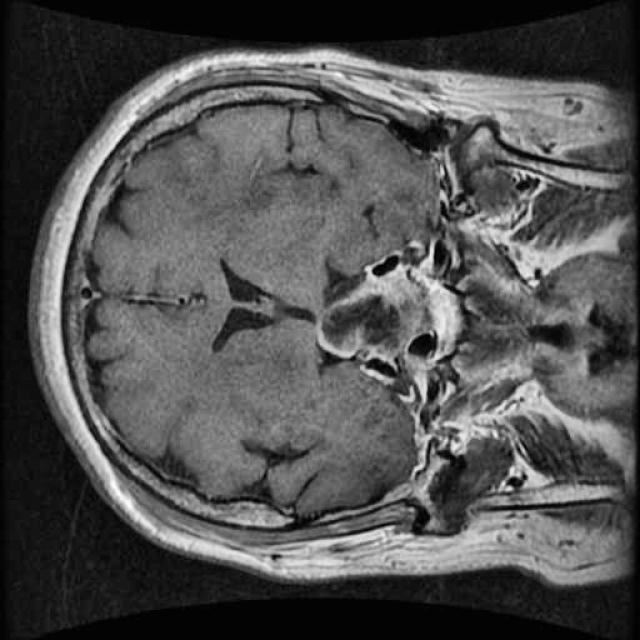Tumor: (311, 281, 418, 368)
